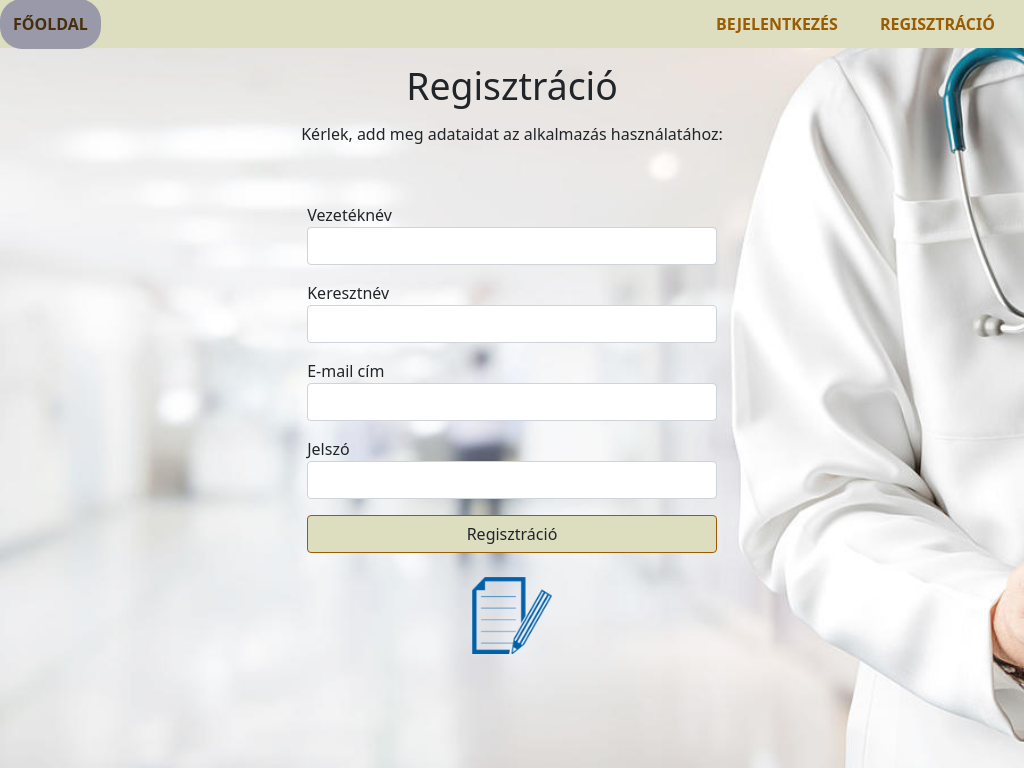
Check Registration page validations › Check invalid input values › Invalid value of email field should have an error message
In the field with id "email": [512, 402] box [307,383,717,421], type "test@test"
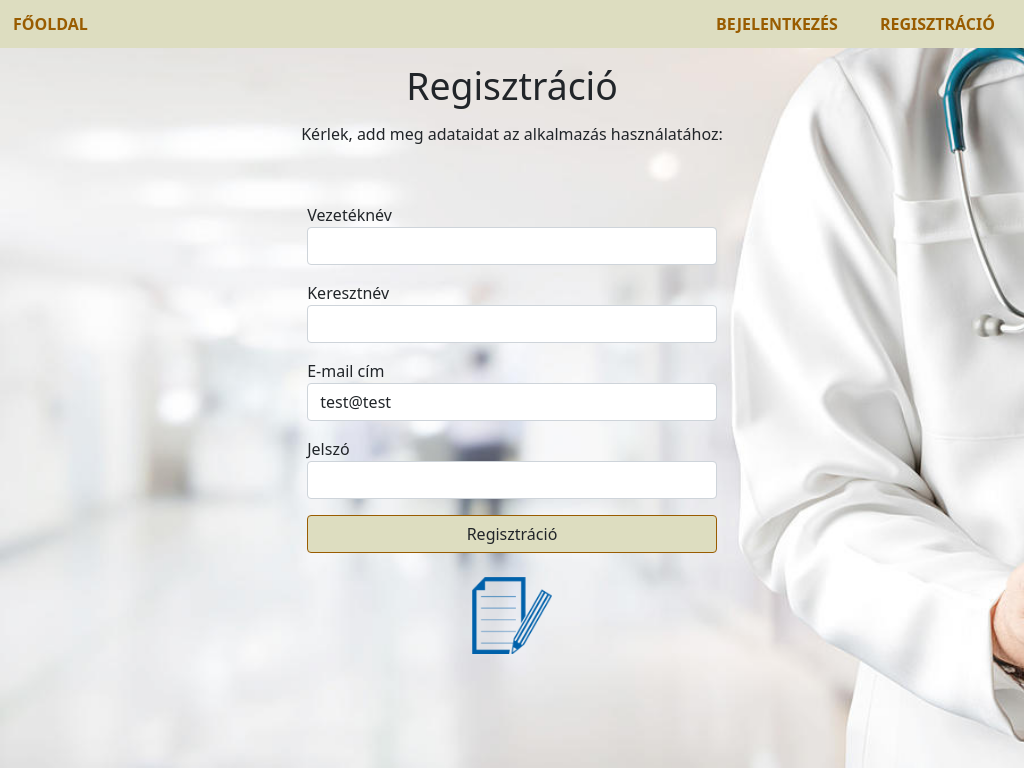
Leave the field with id "email", box [307,383,717,421]
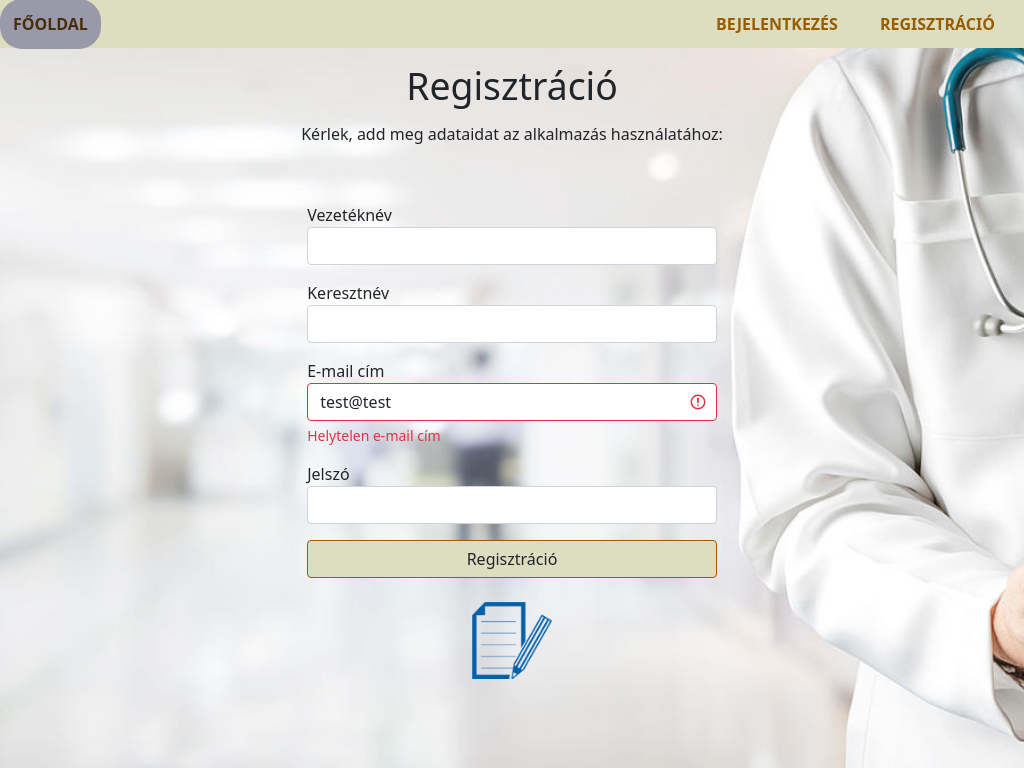
Expected: the text "Helytelen e-mail cím" is shown, [307,426,441,445]
